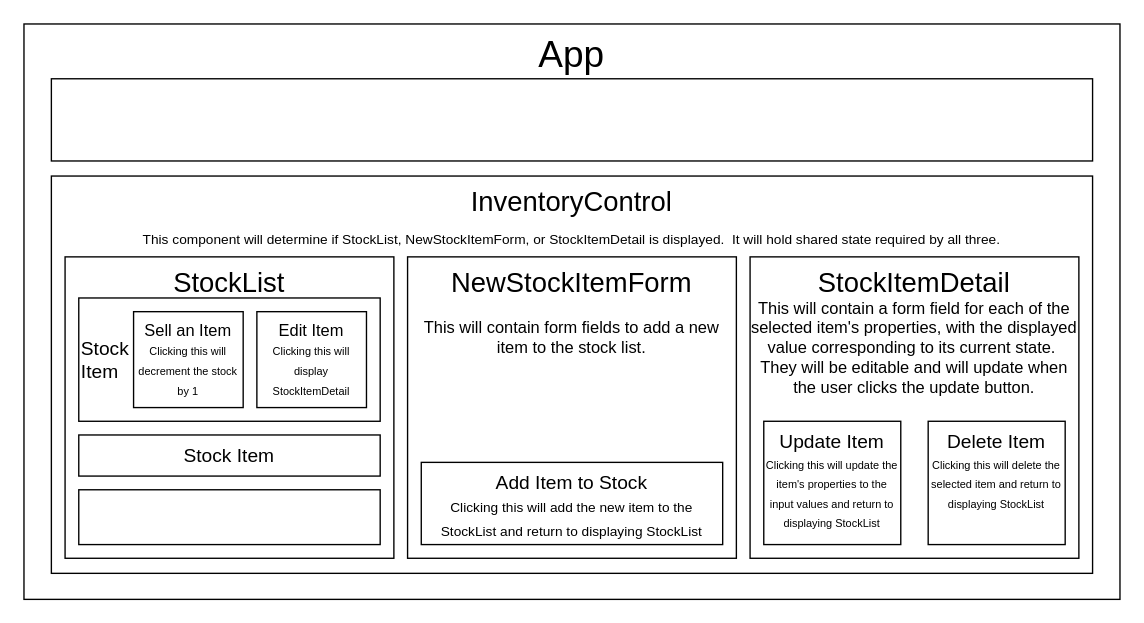
The diagram is 1144 pixels wide and 623 high, and some of its shapes have lost their labels. The shapes that lost their labels are listed below. From the top down, each one's centre as x and y in pixels, then its label:
point (571, 119): Header
point (228, 516): New Stock Item Clicking this will display NewStockItemForm
